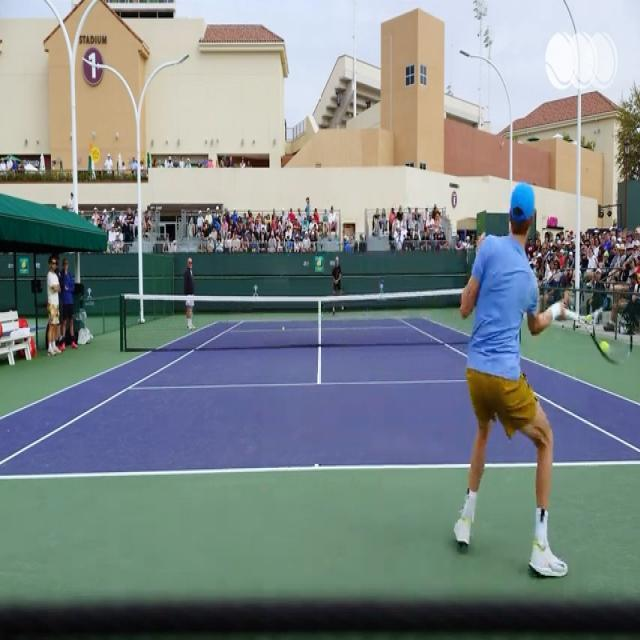forehand-stroke: (453, 183, 625, 578)
